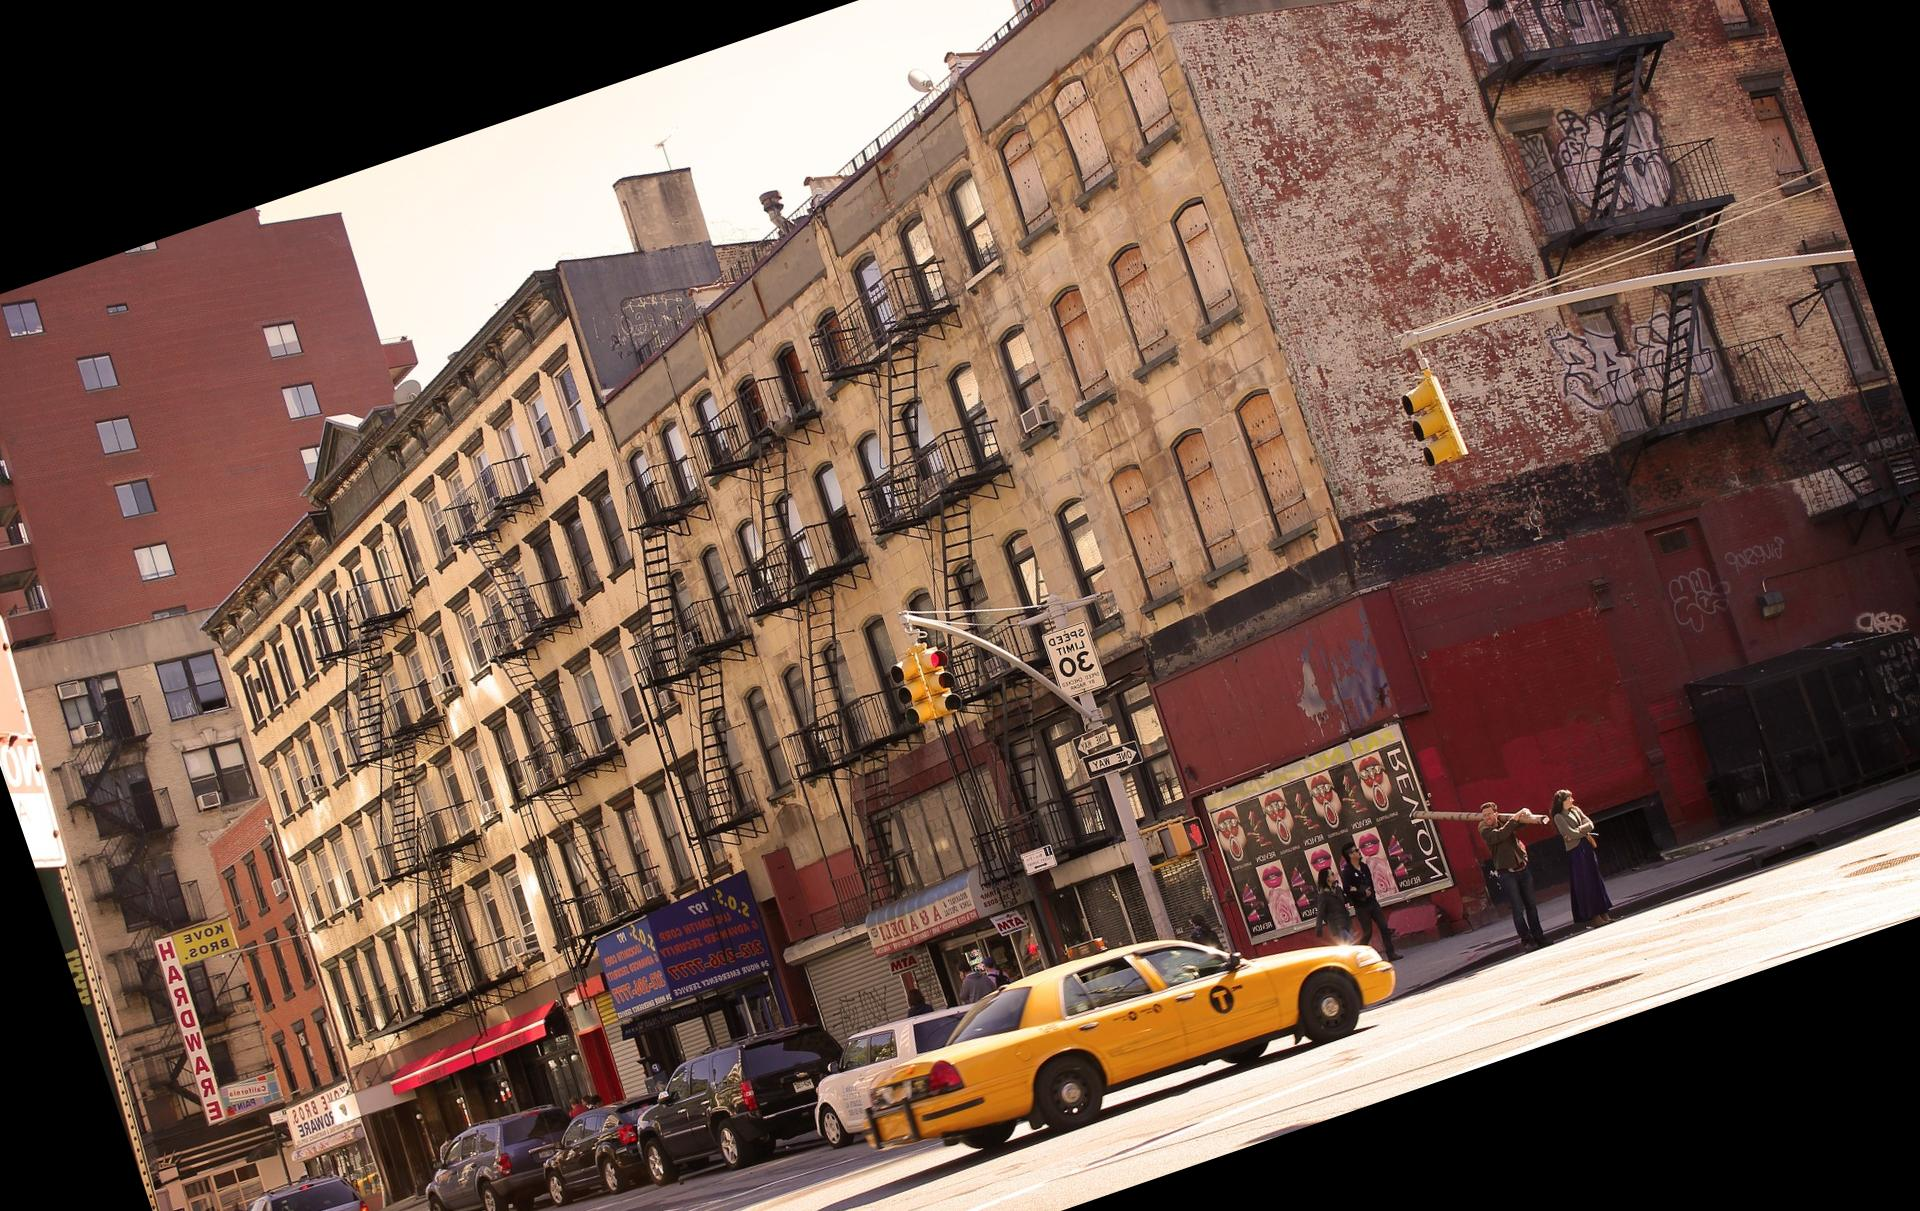taxi: (858, 925, 1413, 1164)
